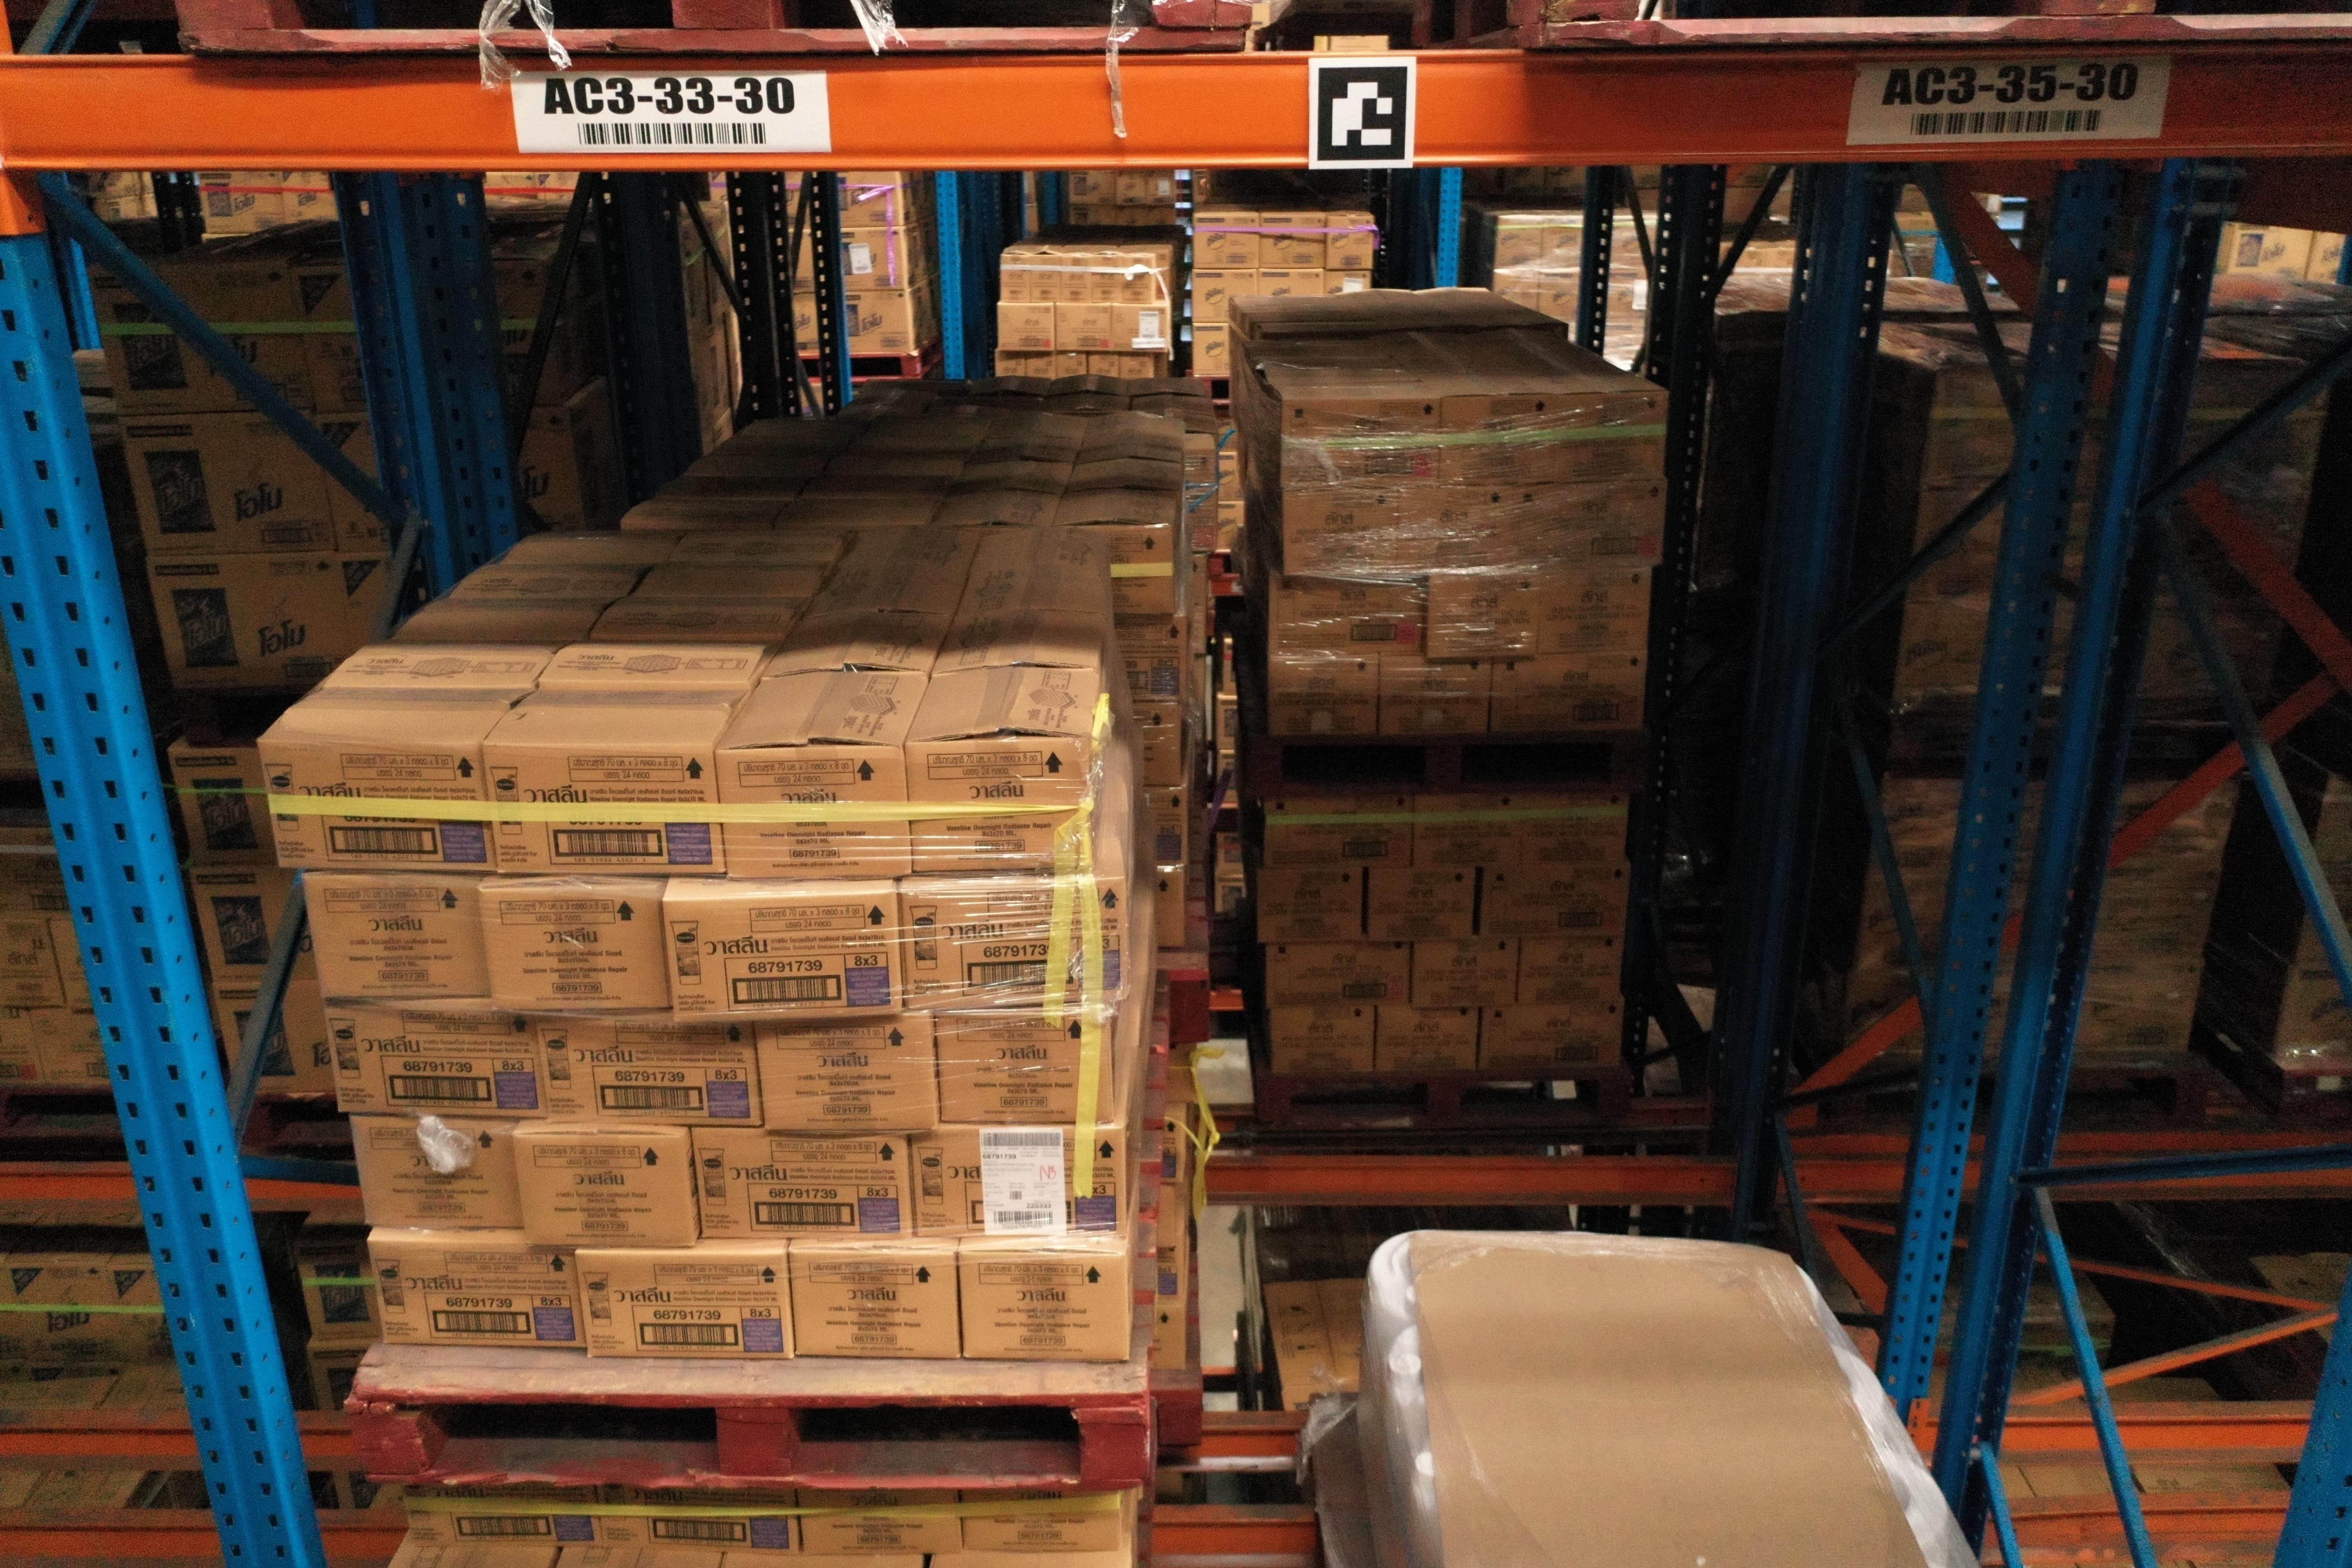-: (257, 737, 497, 877), (663, 894, 906, 1027), (483, 745, 728, 875), (903, 882, 1129, 1017), (714, 744, 915, 882), (903, 737, 1095, 877), (537, 1015, 761, 1127), (303, 870, 493, 999), (479, 889, 675, 1015), (689, 1129, 913, 1237), (367, 1241, 584, 1351), (327, 1008, 548, 1115), (908, 1130, 1129, 1237), (577, 1249, 793, 1356), (754, 1011, 936, 1132), (514, 1130, 696, 1251), (934, 1011, 1113, 1123), (961, 1251, 1130, 1365), (352, 1118, 521, 1228), (791, 1253, 964, 1358), (602, 1489, 803, 1552), (402, 1487, 604, 1547), (800, 1496, 964, 1554), (962, 1494, 1122, 1554)
2: (87, 262, 317, 418), (119, 415, 339, 562), (149, 558, 359, 691), (210, 978, 338, 1104), (191, 870, 318, 992), (1279, 397, 1442, 492), (1508, 481, 1664, 572), (168, 747, 282, 870), (1269, 576, 1426, 660), (1491, 651, 1647, 735), (1263, 793, 1414, 871), (1480, 861, 1627, 940), (1440, 395, 1559, 488), (1398, 485, 1514, 576), (1557, 390, 1666, 485), (1283, 490, 1398, 576), (1267, 943, 1410, 1011), (1428, 574, 1542, 660), (1480, 1006, 1622, 1074), (1542, 569, 1652, 654), (1377, 658, 1493, 735), (1269, 658, 1379, 735), (1414, 791, 1522, 868), (1521, 787, 1629, 863), (1372, 866, 1475, 943), (1412, 938, 1517, 1008), (1258, 871, 1361, 941), (1517, 938, 1624, 1004), (1270, 1010, 1375, 1076), (1379, 1010, 1479, 1074)
